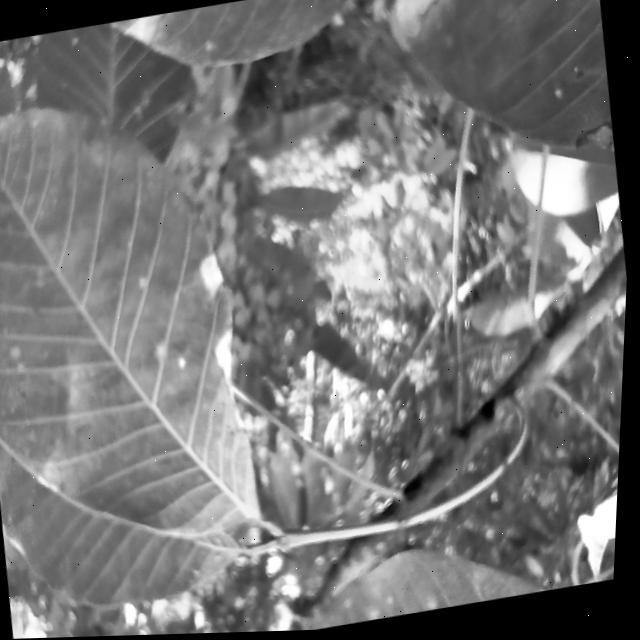Leaf-Blight: (381, 0, 509, 46), (213, 329, 252, 436), (122, 15, 169, 53), (198, 252, 230, 300)
